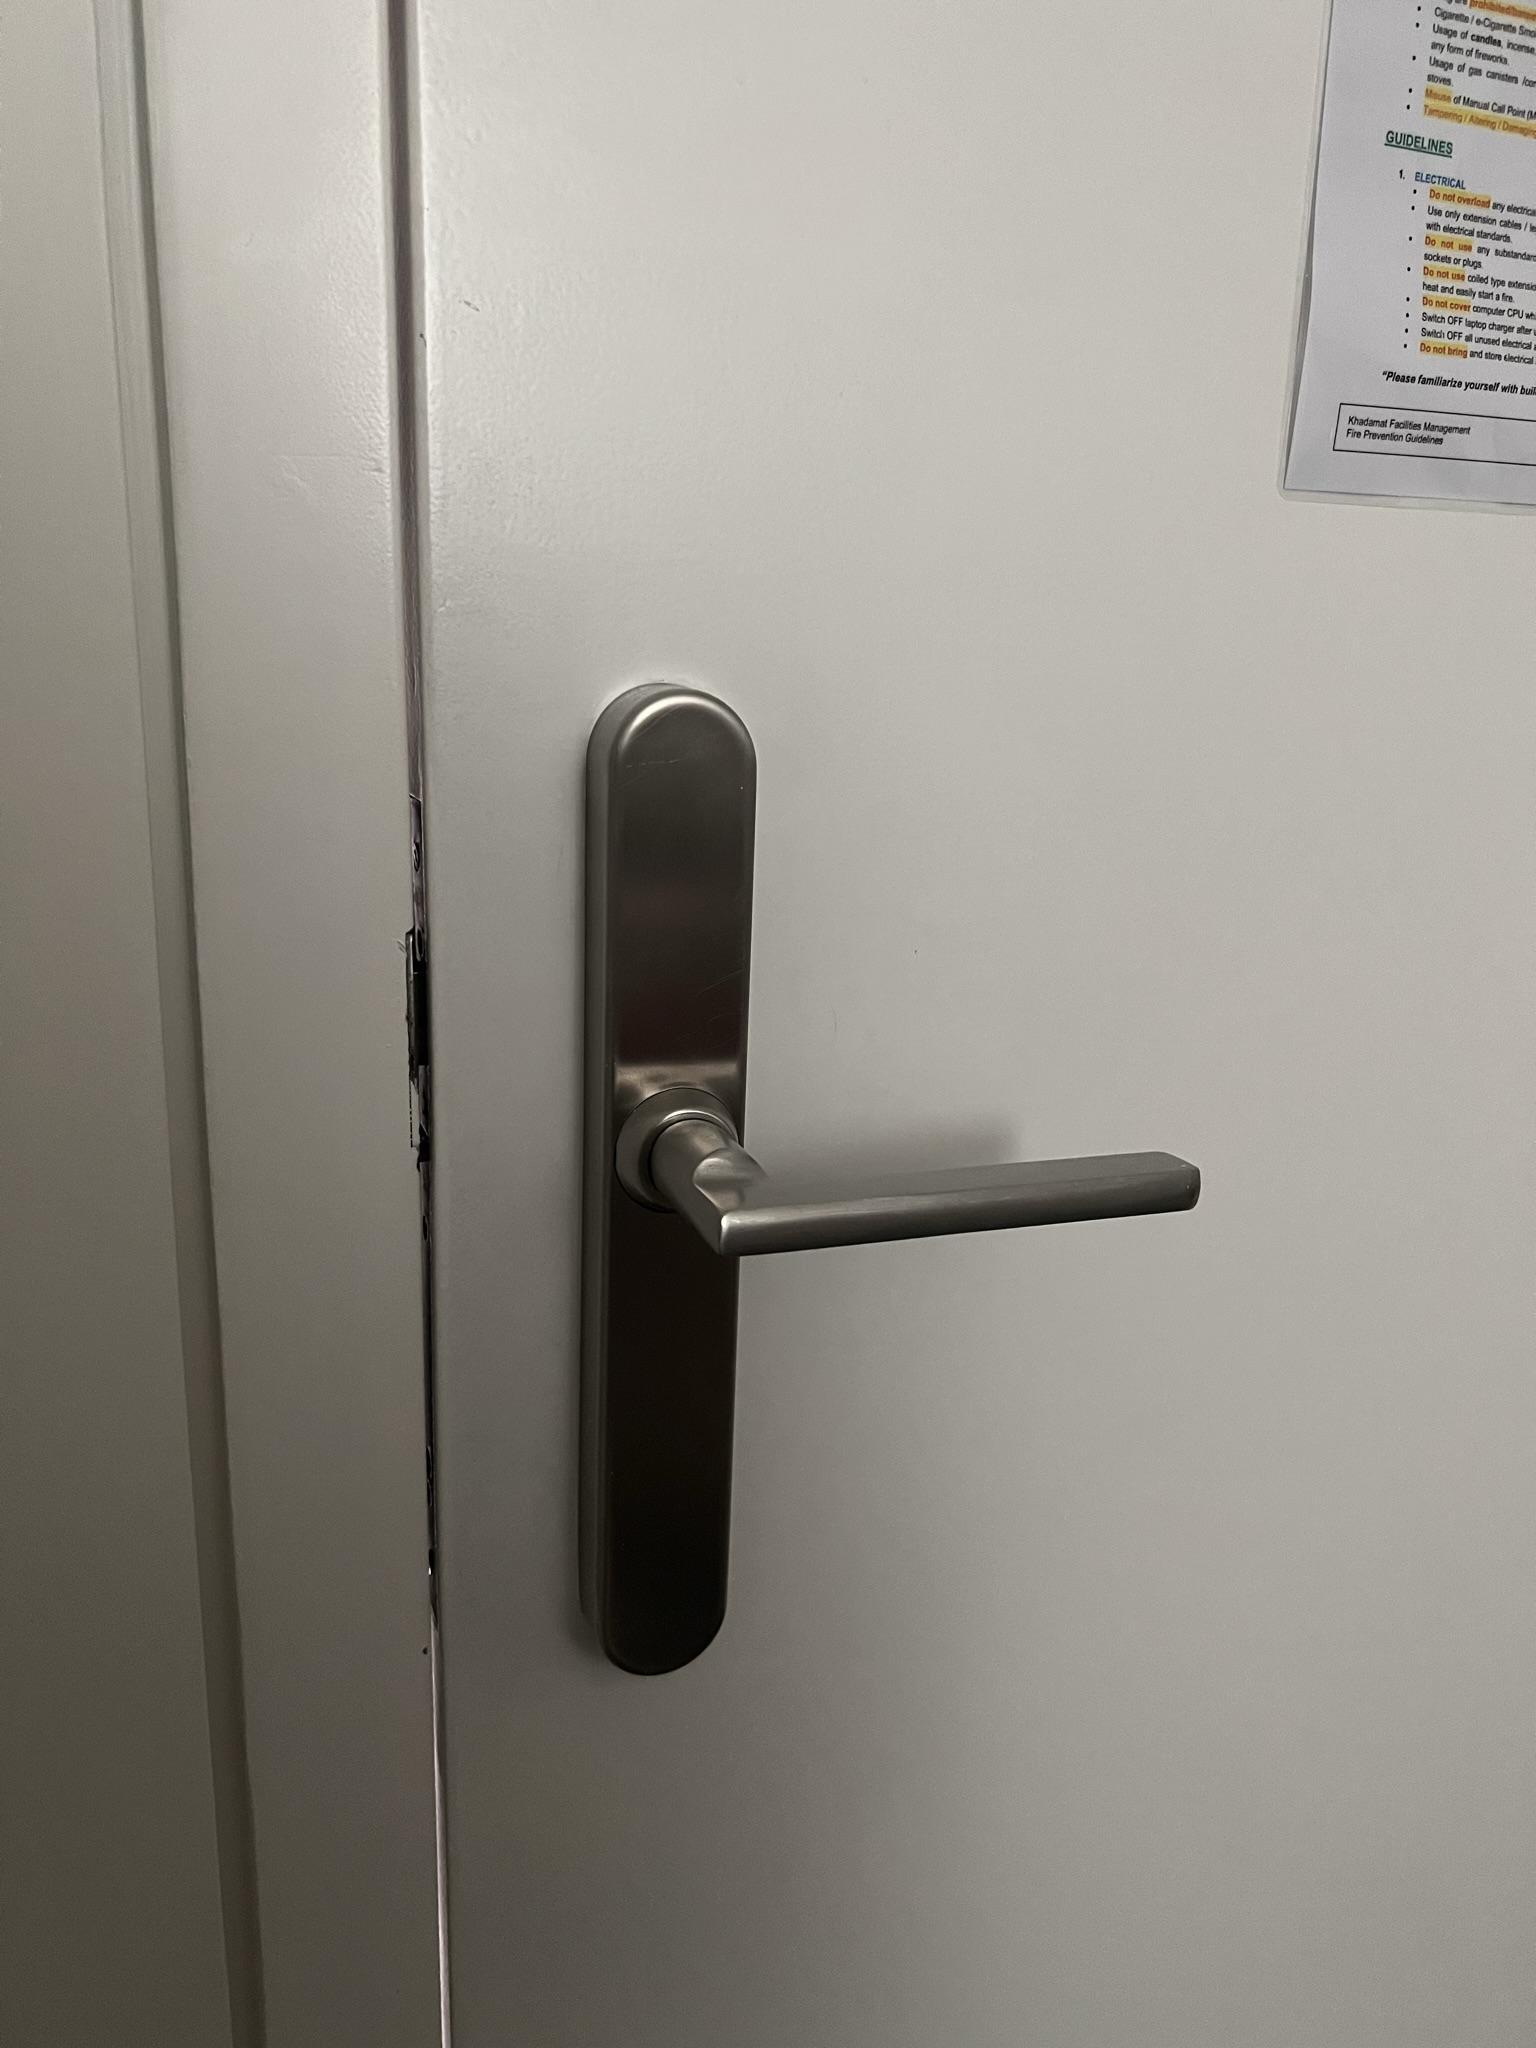handle: (561, 656, 1200, 1674)
